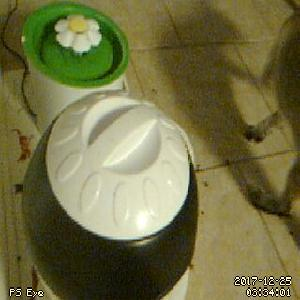cat: (240, 7, 300, 220)
fountain: (21, 2, 130, 90)
